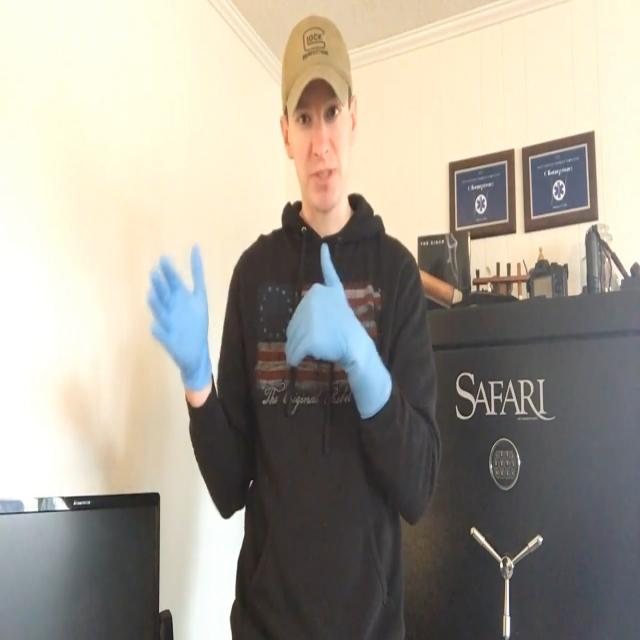Gloves: (279, 240, 396, 430), (143, 251, 223, 407)
